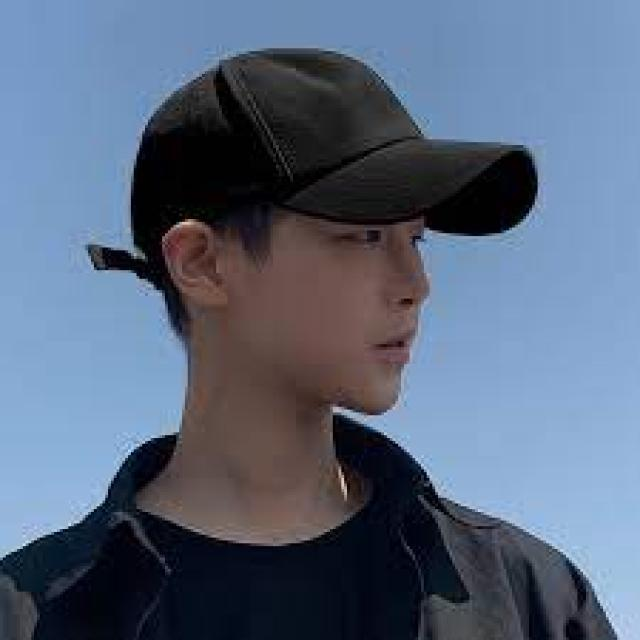cap: (63, 22, 546, 300)
